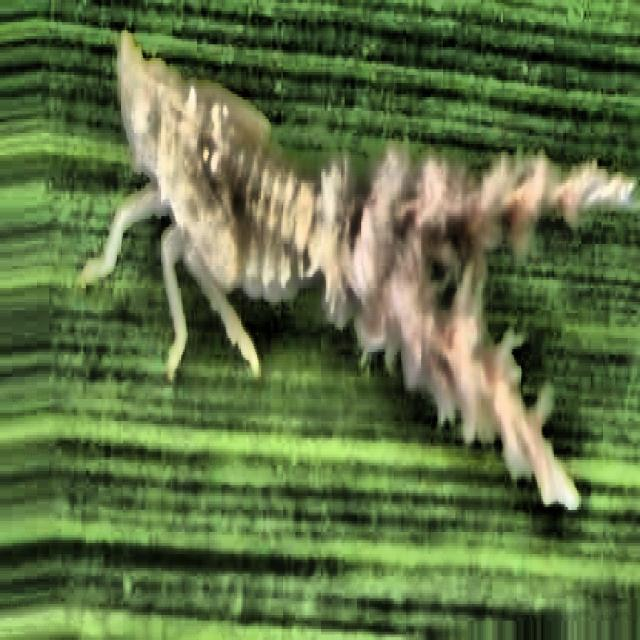Pyrilla-perpusilla: (95, 0, 616, 474)
